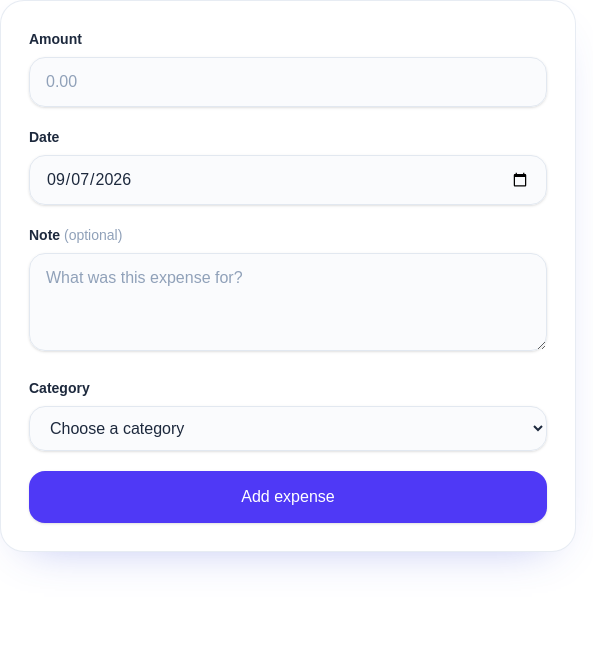
Scenario: AddExpenseForm › shows a validation error for an empty amount
The image size is (593, 652).
Select "Food" in the dropdown labelled "Category" at coordinates (288, 428), box [29,406,547,451]
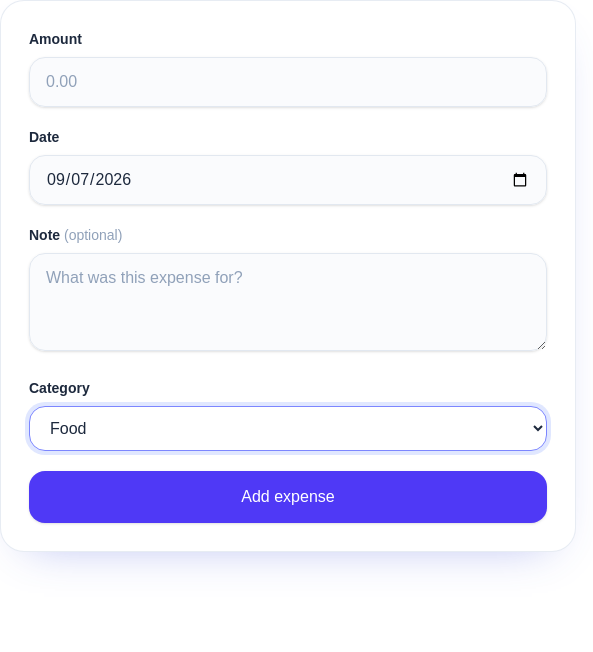
Click the button "Add expense" at coordinates (288, 497), box [29,471,547,523]
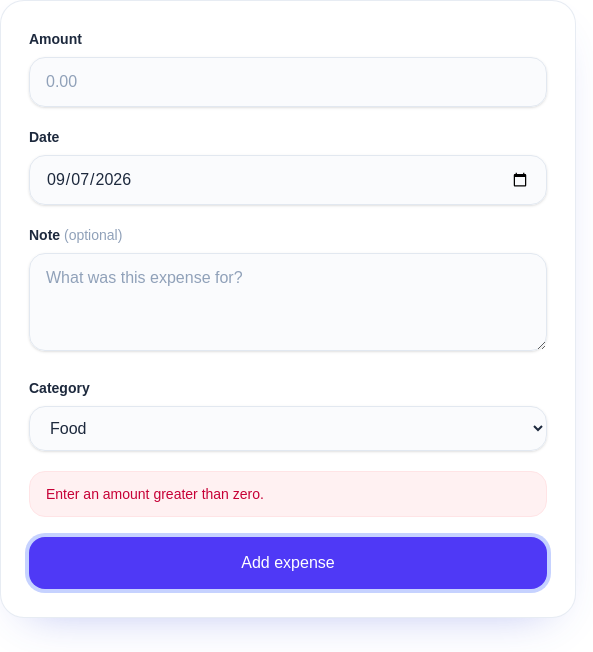
Expected: the message shows "amount greater than zero", [46,486,264,502]
